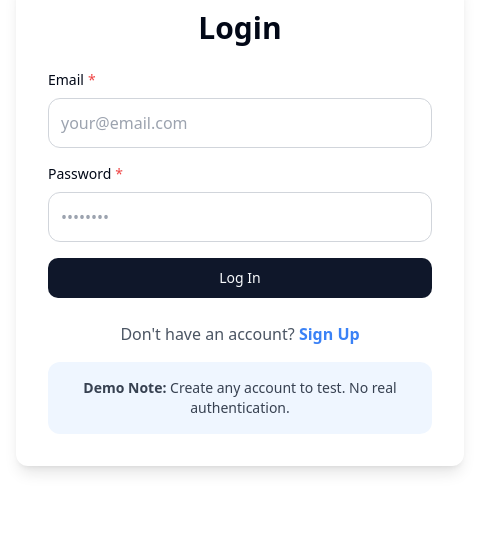
LoginPage › Form Validation › shows error for empty password
The width and height of the screenshot is (481, 558).
Type "test@example.com" into the field labelled "Email*". click: (240, 123)
box: [48,98,432,148]
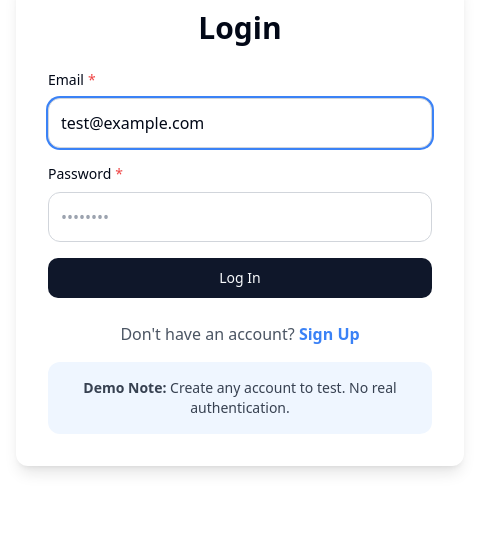
Click the button "Log In". click: (240, 278)
box: [48,258,432,298]
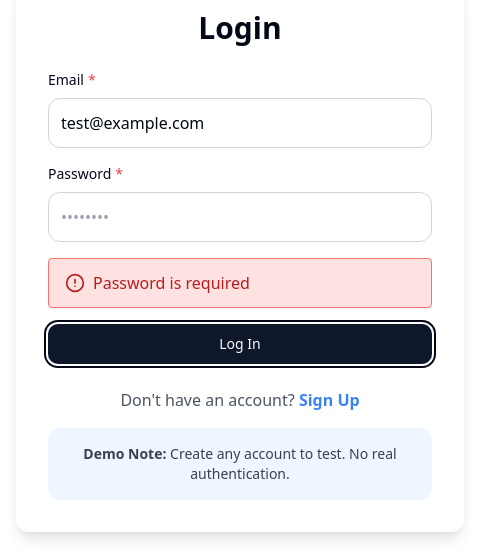
Now the text "Password is required" is shown, box [93,271,250,295]
